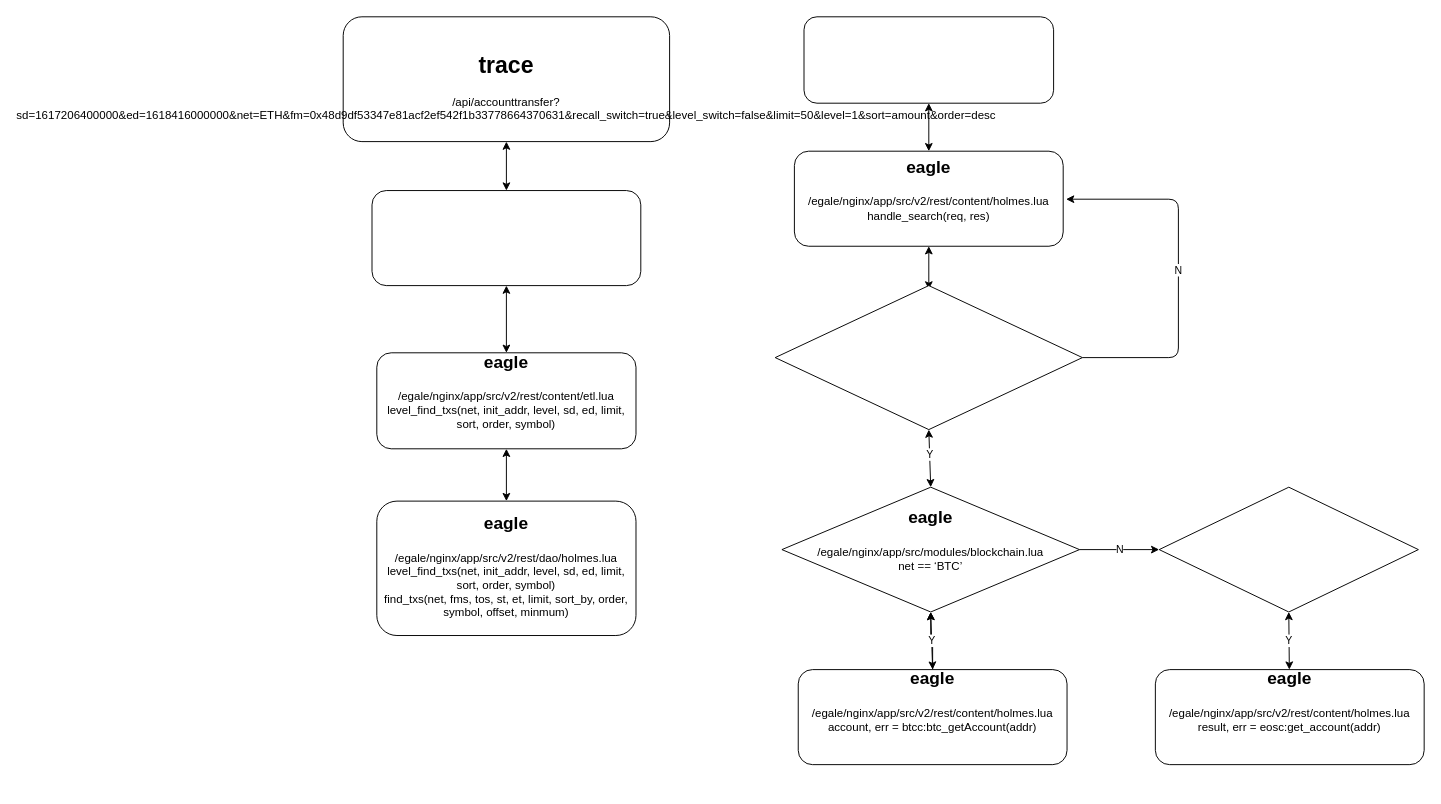
The diagram is 1441 pixels wide and 804 high, and some of its shapes have lost their labels. Each missing label, with the centre of its shape:
"eagle /egale/nginx/app/src/modules/blockchain.lua net == ‘EOS’" belongs at pixel 1288 549.
"eagle /egale/nginx/app/src/modules/blockchain.lua verify_address(addr)" belongs at pixel 928 357.
"eagle /egale/nginx/app/src/v2/rest/content/holmes.lua handle_txs(req, res)" belongs at pixel 506 238.
"trace /api/accountinfo?address=0xf4a2eff88a408ff4 c4550148151c33c93442619e" belongs at pixel 928 59.
